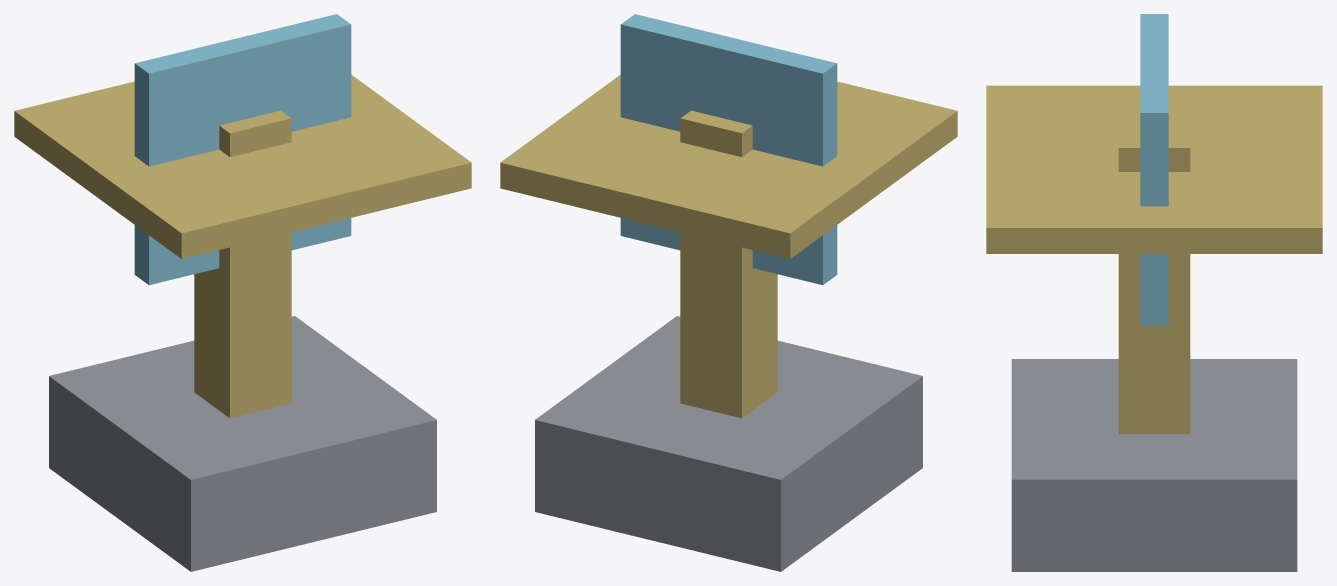
File: prop_chronomantic_astrolabe.glb
3 views of the same model, side by side, from view 1: azimuth 30°, elevation 25°; view 2: azimuth 150°, elevation 25°; view 3: azimuth 270°, elevation 25° (orthographic).
Visible parts, largest first — view 1: prop_chronomantic_astrolabe; view 2: prop_chronomantic_astrolabe; view 3: prop_chronomantic_astrolabe.
Part boxes in pixels (<box>): prop_chronomantic_astrolabe: <box>14,14,471,571</box>; prop_chronomantic_astrolabe: <box>500,14,957,571</box>; prop_chronomantic_astrolabe: <box>986,14,1322,571</box>.
Size of the model in its own units: 1.65 by 2.42 by 1.65.
